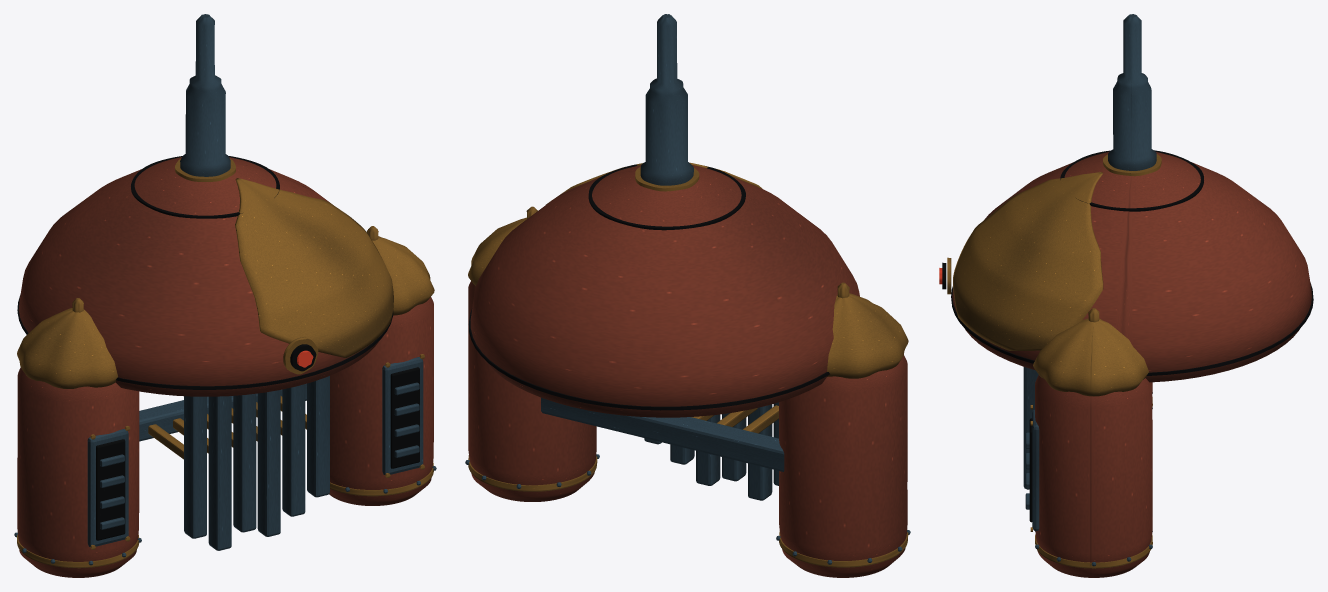
3 renders of one model, left to right at view 1: azimuth 30°, elevation 25°; view 2: azimuth 150°, elevation 25°; view 3: azimuth 270°, elevation 25°, orthographic. The views are drawn at different scales.
Visible parts, largest first — view 1: AC02 main arch dome, Conformal uneven brass roof facing, AC02 side pod -1, AC02 side pod 1, AC02 gold pod cap -1, AC02 antenna, AC02 exposed conductor 1, AC02 exposed conductor 3, AC02 exposed conductor 2, AC02 exposed conductor 0, AC02 exposed conductor 4, AC02 exposed conductor 5 (+12 smaller); view 2: AC02 main arch dome, AC02 side pod -1, AC02 side pod 1, AC02 rear conductor cross member, AC02 antenna, AC02 gold pod cap -1, AC02 dome seam 1.04, AC02 exposed conductor 1, AC02 dome seam 1.68, AC02 gold pod cap 1, AC02 pod lower collar 1, AC02 pod lower collar -1 (+3 smaller); view 3: AC02 main arch dome, AC02 side pod 1, Conformal uneven brass roof facing, AC02 gold pod cap 1, AC02 antenna, AC02 dome seam 1.04, AC02 exposed conductor 5, AC02 service panel surround 1, AC02 dome seam 1.68, AC02 pod lower collar 1.
Boxes of the visible parts, x1,y1,x2,y2 form: AC02 main arch dome: (18, 157, 379, 396); Conformal uneven brass roof facing: (235, 178, 393, 357); AC02 side pod -1: (17, 367, 139, 577); AC02 side pod 1: (329, 297, 433, 505); AC02 gold pod cap -1: (17, 308, 117, 388); AC02 antenna: (180, 14, 230, 176); AC02 exposed conductor 1: (208, 396, 231, 550); AC02 exposed conductor 3: (257, 390, 280, 536); AC02 exposed conductor 2: (233, 393, 256, 532); AC02 exposed conductor 0: (184, 396, 206, 538); AC02 exposed conductor 4: (282, 384, 305, 516); AC02 exposed conductor 5: (307, 376, 329, 497); AC02 main arch dome: (470, 165, 859, 417); AC02 side pod -1: (779, 355, 907, 577); AC02 side pod 1: (468, 281, 596, 501); AC02 rear conductor cross member: (541, 397, 784, 471); AC02 antenna: (640, 14, 693, 185); AC02 gold pod cap -1: (827, 293, 908, 378); AC02 dome seam 1.04: (468, 308, 829, 410); AC02 exposed conductor 1: (748, 404, 772, 500); AC02 dome seam 1.68: (588, 164, 745, 230); AC02 gold pod cap 1: (468, 217, 526, 285); AC02 pod lower collar 1: (468, 455, 597, 491); AC02 pod lower collar -1: (779, 531, 908, 567); AC02 main arch dome: (952, 151, 1311, 382); AC02 side pod 1: (1035, 375, 1152, 577); Conformal uneven brass roof facing: (953, 172, 1103, 350); AC02 gold pod cap 1: (1033, 318, 1148, 396); AC02 antenna: (1108, 14, 1156, 170); AC02 dome seam 1.04: (951, 282, 1313, 375); AC02 exposed conductor 5: (1023, 367, 1038, 485); AC02 service panel surround 1: (1032, 409, 1039, 531); AC02 dome seam 1.68: (1060, 150, 1203, 211); AC02 pod lower collar 1: (1035, 534, 1152, 568).
Bounding box in the file's own units: 2.23 × 2.58 × 1.85.
5 materials, 4 textured.
